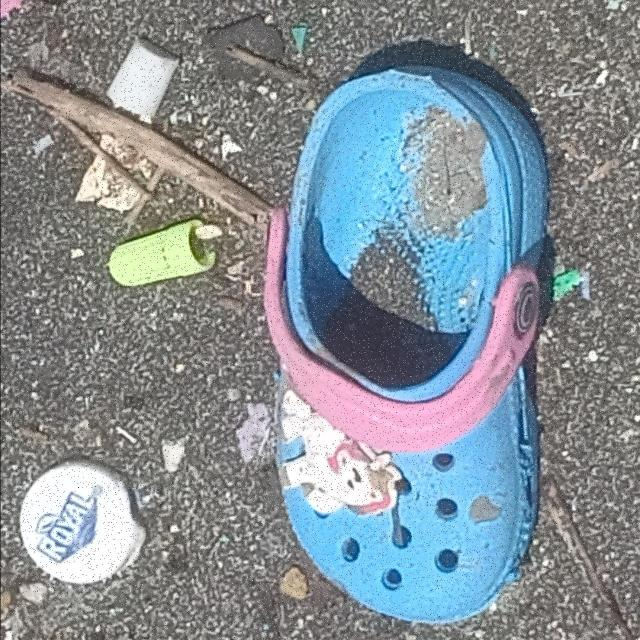plastic_waste: (20, 464, 141, 584)
rubber_waste: (262, 65, 548, 626)
